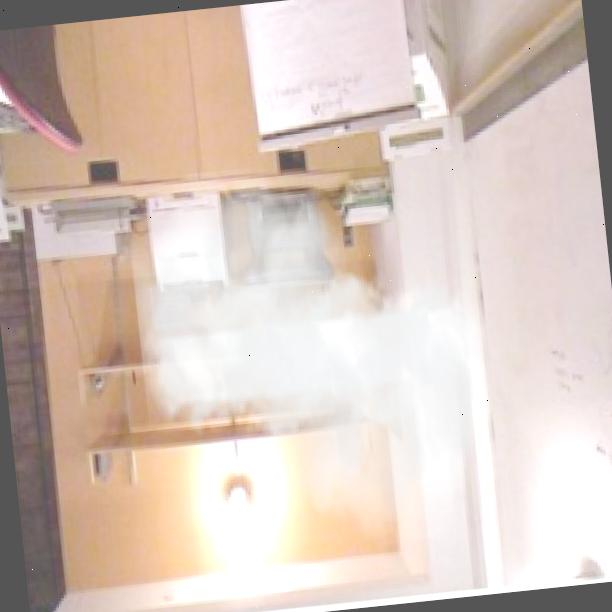smoke: (124, 145, 506, 567)
